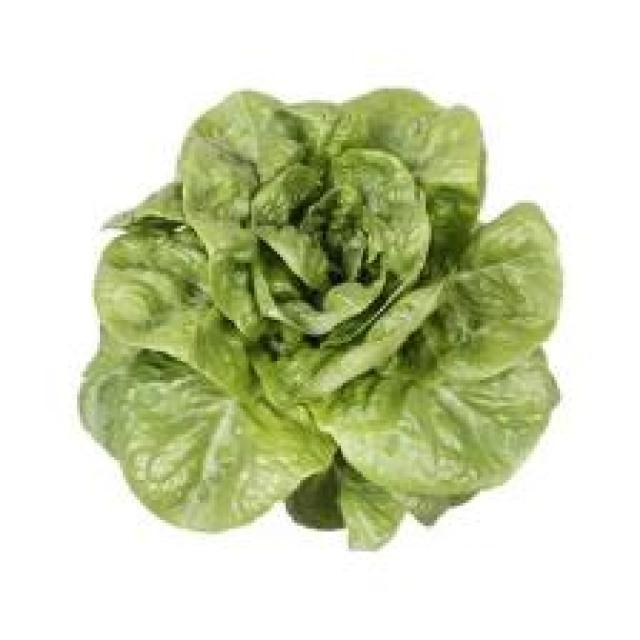Lettuce: (73, 84, 559, 553)
